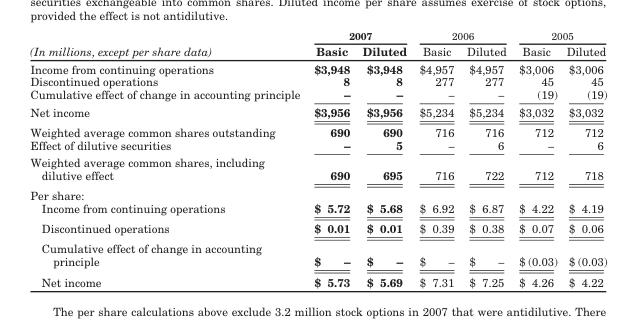table: (29, 28, 606, 288)
table column: (29, 28, 306, 288), (355, 28, 412, 288), (459, 28, 511, 288), (511, 28, 561, 288), (306, 28, 355, 288), (412, 28, 459, 288), (561, 28, 606, 288)
table column header: (29, 28, 606, 59)
table projected row header: (29, 184, 606, 201)
table row: (29, 237, 606, 271), (29, 153, 606, 184), (29, 217, 606, 237), (29, 102, 606, 121), (29, 42, 606, 59), (29, 121, 606, 138), (29, 184, 606, 201), (29, 271, 606, 288), (29, 201, 606, 217), (29, 59, 606, 74), (29, 87, 606, 102), (29, 138, 606, 153), (29, 28, 606, 42), (29, 74, 606, 87)
table spanning cell: (29, 28, 306, 59), (306, 28, 412, 42), (412, 28, 511, 42), (511, 28, 606, 42)
